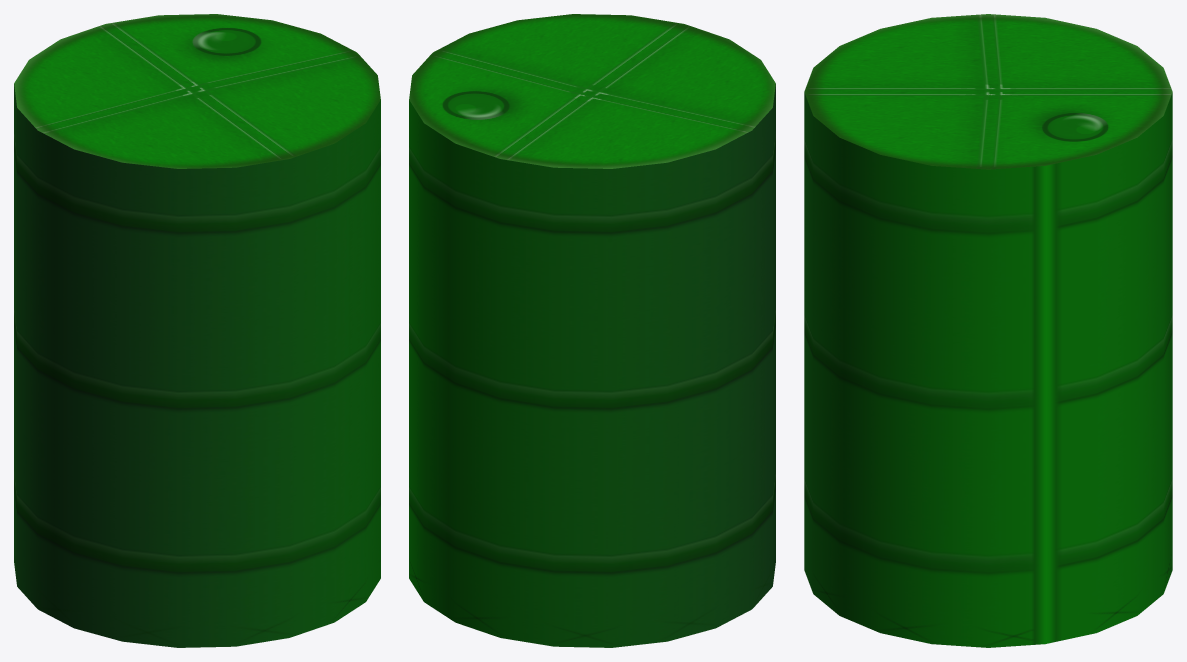
File: Barrel_02.fbx
The picture shows the model from 3 angles, left to right: view 1: azimuth 30°, elevation 25°; view 2: azimuth 150°, elevation 25°; view 3: azimuth 270°, elevation 25°; orthographic projection.
Parts seen in each view (by area): view 1: Barrel_01; view 2: Barrel_01; view 3: Barrel_01.
Part boxes in pixels (x1=…): Barrel_01: x1=14, y1=14, x2=380, y2=647; Barrel_01: x1=409, y1=14, x2=775, y2=647; Barrel_01: x1=804, y1=14, x2=1172, y2=647.
Size of the model in its own units: 1.96 by 2.81 by 1.96.
